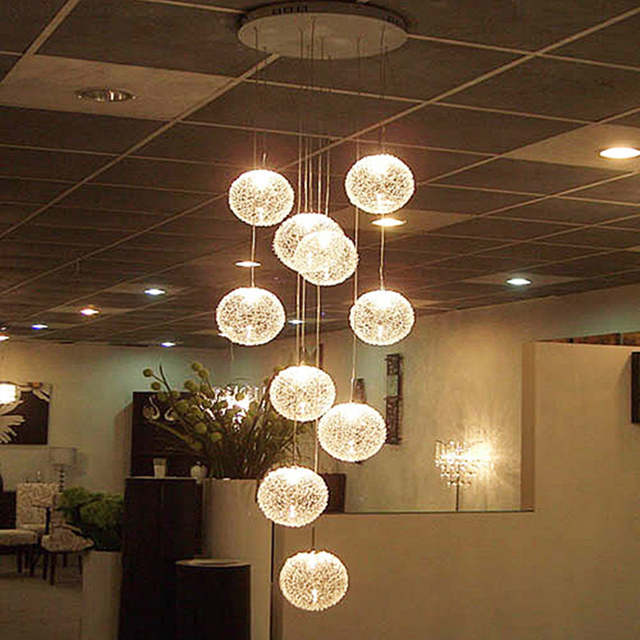chandelier: (195, 1, 479, 618)
